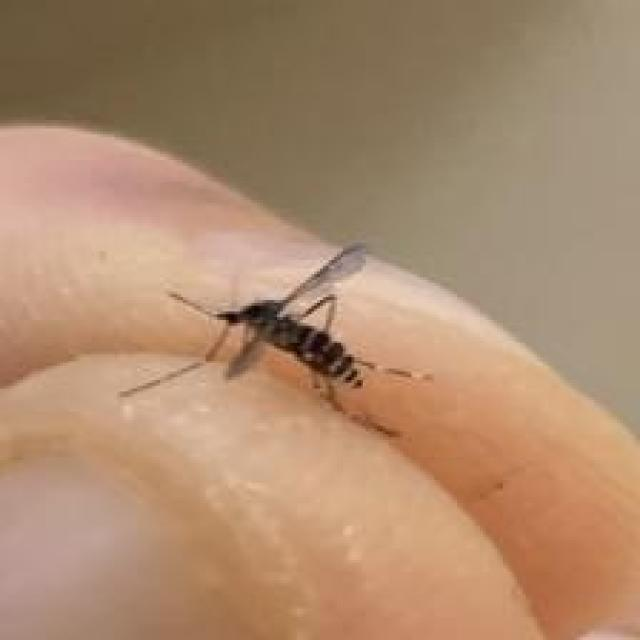Aedes albopictus: (117, 240, 434, 437)
